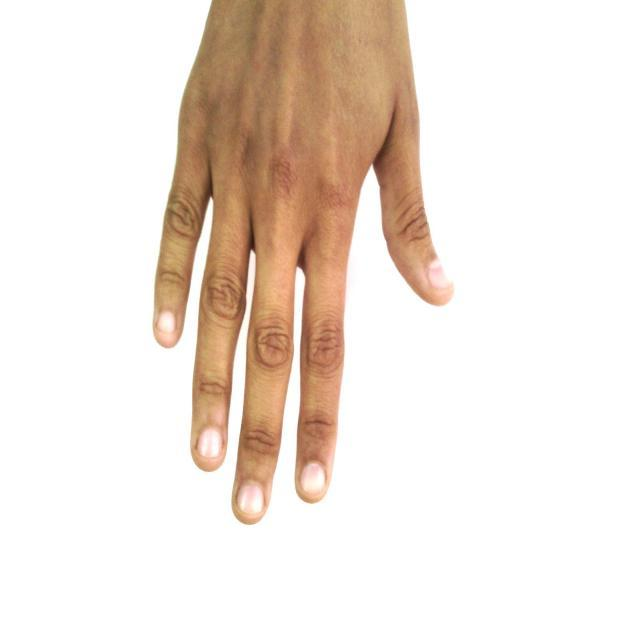Fingernail: (239, 482, 263, 514), (302, 464, 325, 496), (429, 260, 451, 290), (199, 429, 222, 457), (157, 312, 175, 333)
